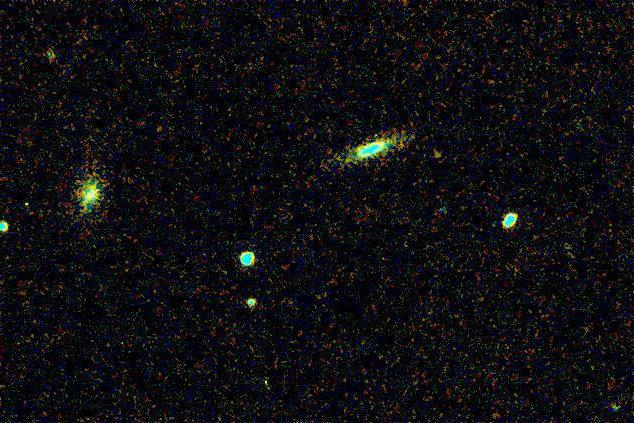star: (422, 136, 452, 166)
